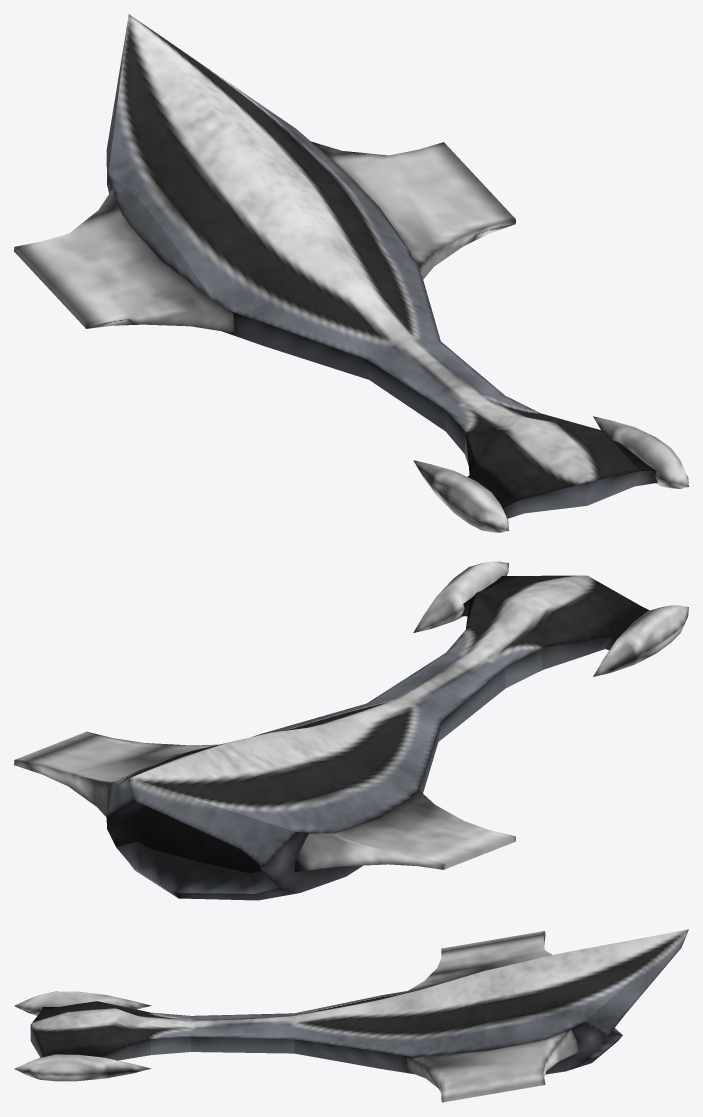
File: Impero_2.fbx
3 views of the same model, one above another, from view 1: azimuth 30°, elevation 25°; view 2: azimuth 150°, elevation 25°; view 3: azimuth 270°, elevation 25° (orthographic). The views are drawn at different scales.
Visible parts, largest first — view 1: Texture, Colore1; view 2: Texture, Colore1; view 3: Texture, Colore1.
Part boxes in pixels (x1,y1,x2,y2): Texture: [106, 14, 657, 518]; Colore1: [14, 14, 688, 532]; Texture: [106, 575, 649, 900]; Colore1: [14, 561, 688, 871]; Texture: [30, 929, 688, 1074]; Colore1: [14, 929, 687, 1102].
Bounding box in the file's own units: 2.81 × 1.05 × 5.33.
2 materials, 2 textured.
